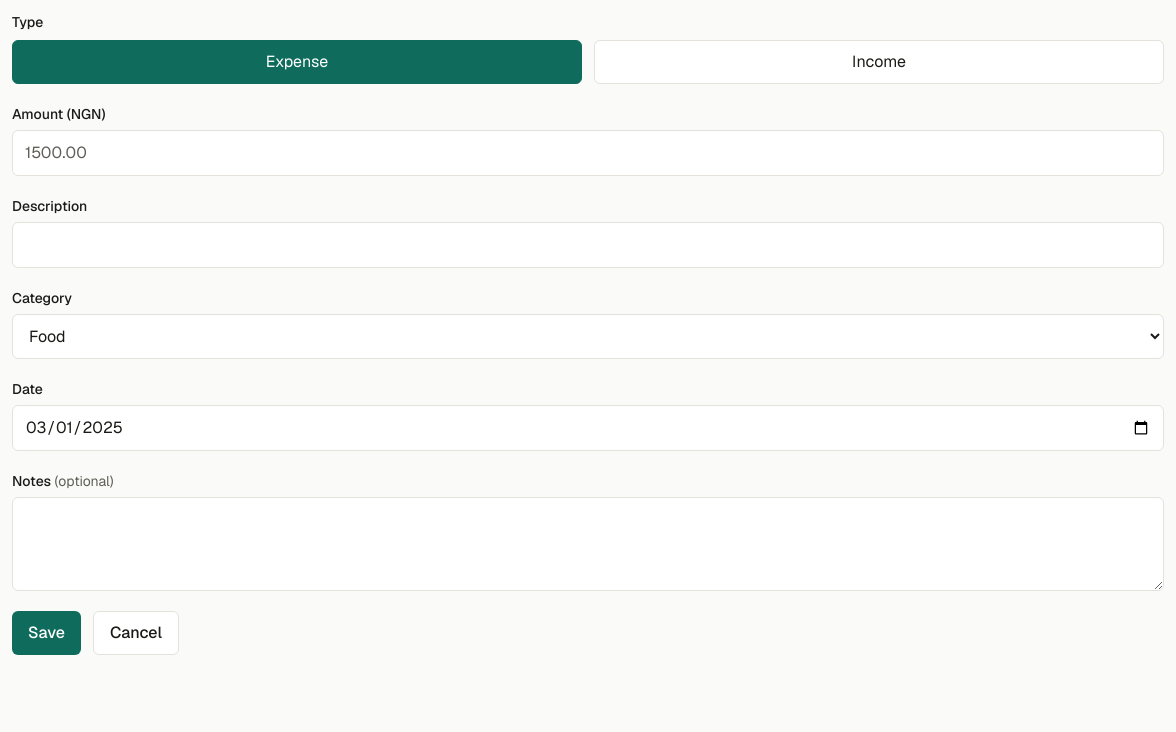
Test: TransactionForm › switching to income swaps the category list and clears a mismatched selection
The image size is (1176, 732).
Expected: the dropdown labelled "Category" shows "Food", [12,314,1164,359]
Step 1. Click the radio button labelled "Income" → (879, 62), box [594,40,1164,84]
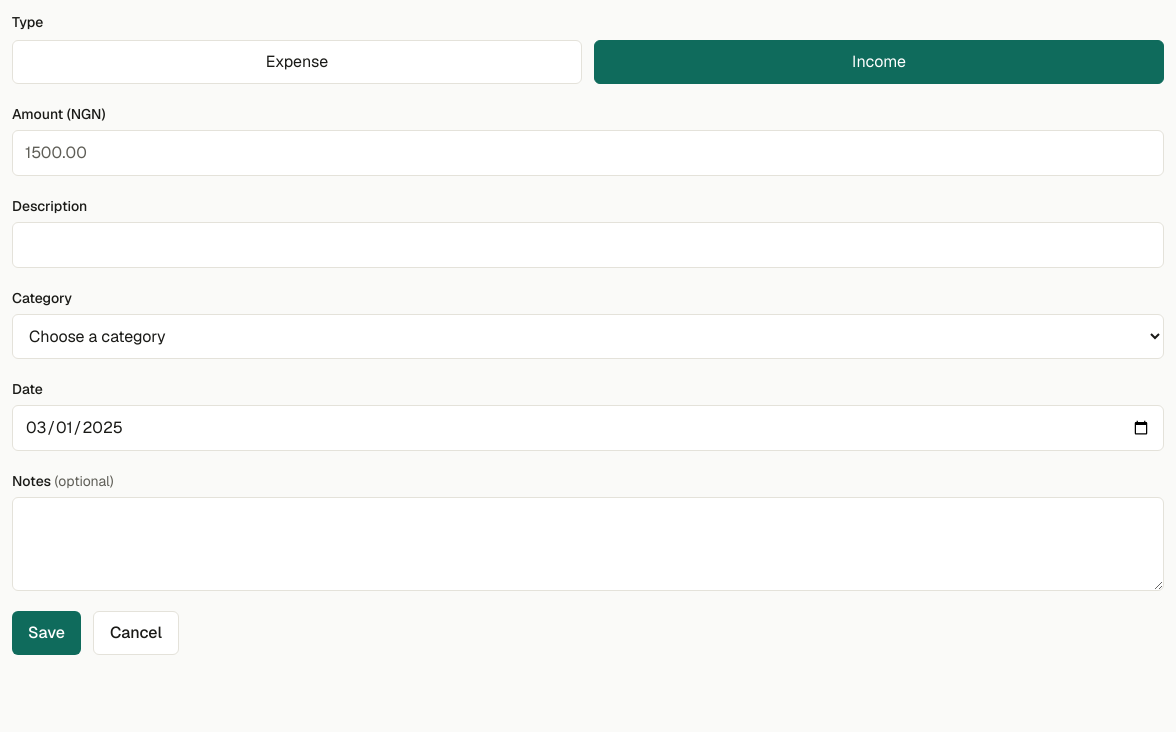
Now the dropdown labelled "Category" shows "Choose a category", box [12,314,1164,359]
